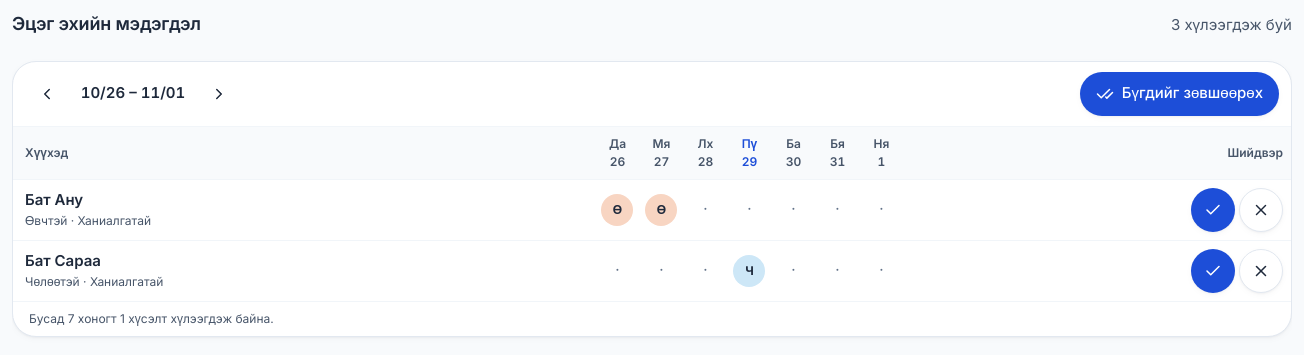
Test: leave notices by the week › steps to the next week
Expected: the table is shown, [13, 126, 1291, 300]
Step 1. Click the button named "Дараах 7 хоног" → (219, 94), box [197, 72, 241, 116]
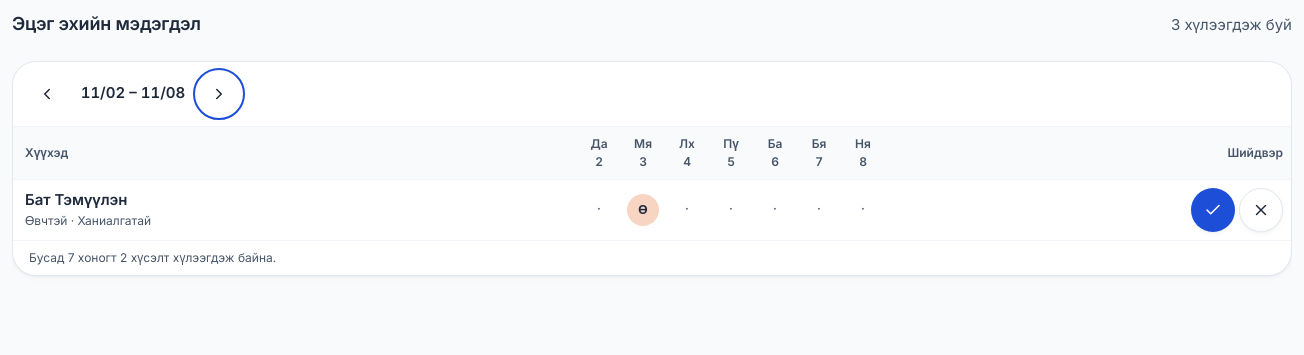
Result: the row "Бат Тэмүүлэн Өвчтэй · Ханиалгатай · Ө · · · · ·" is shown at [13, 179, 1291, 240]
